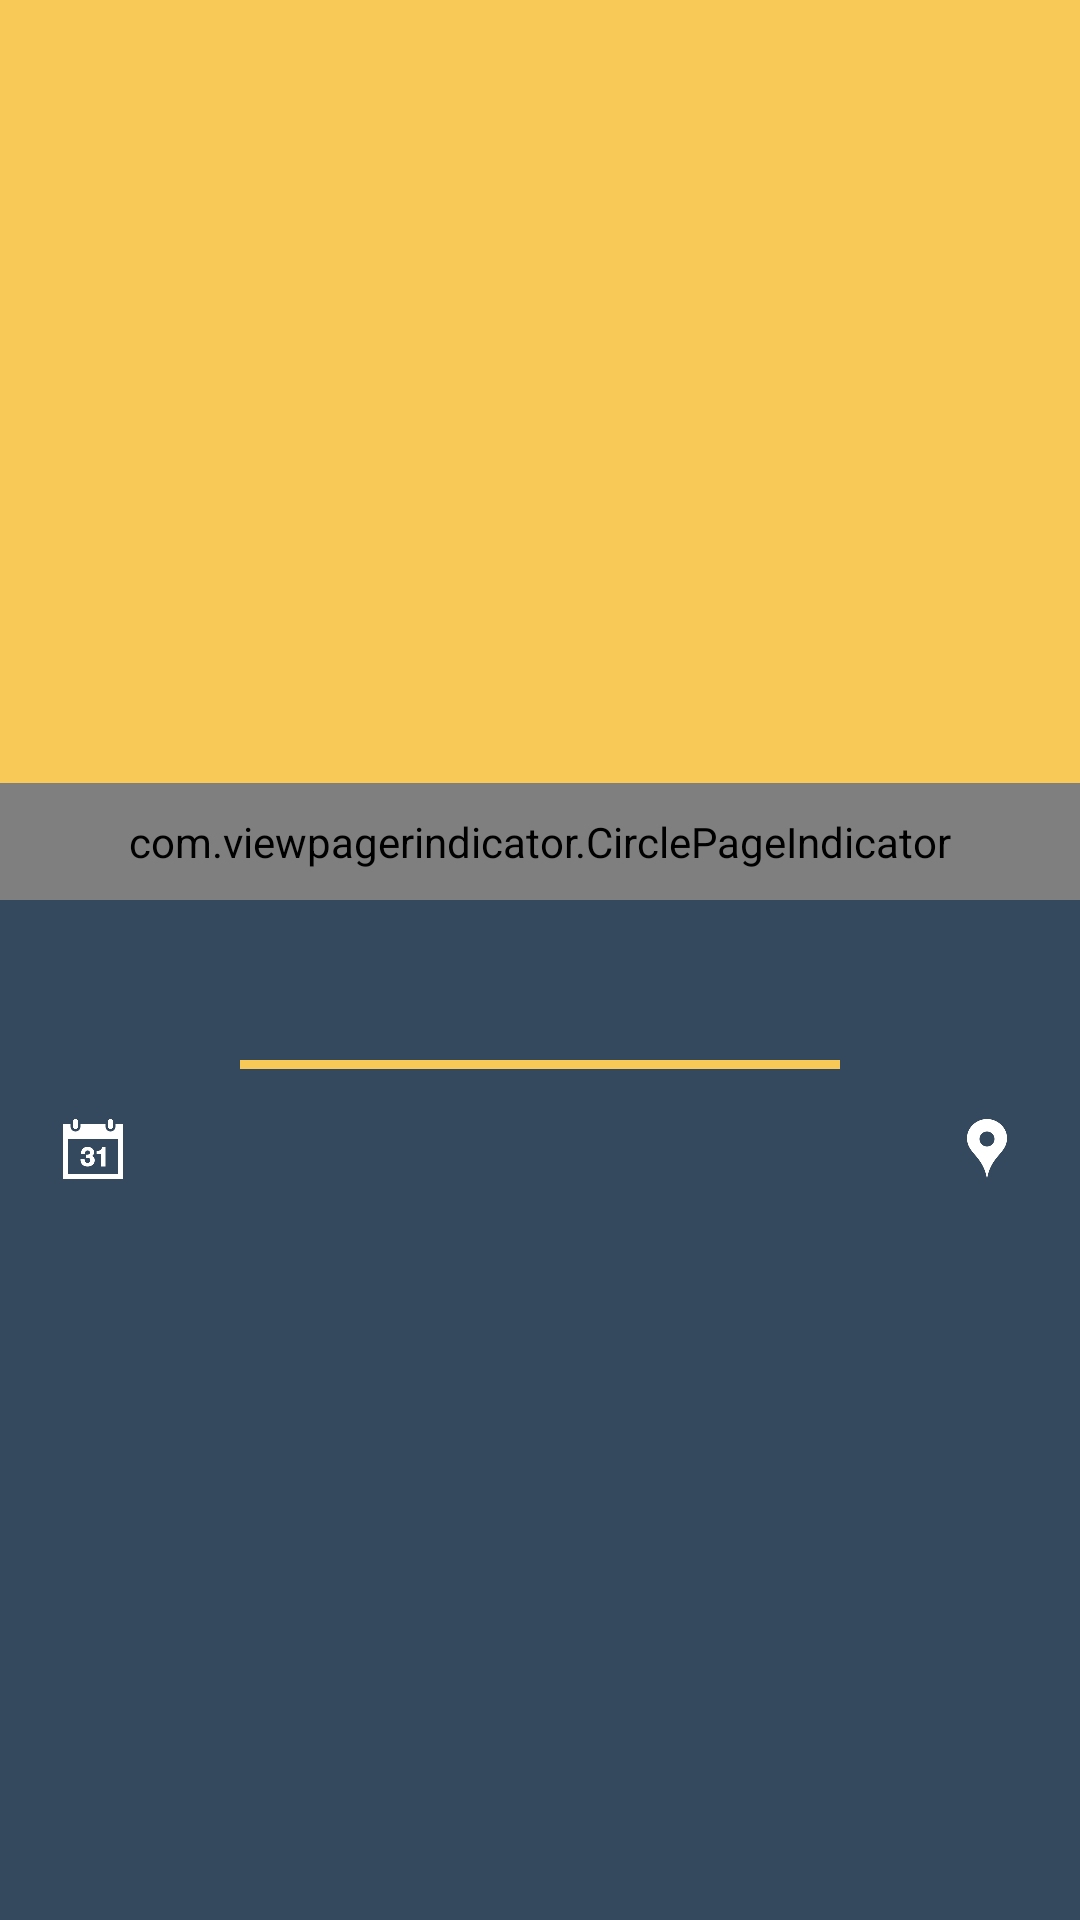

Named icons in this screenshot (1080×1920) and their centers, (x,y):
calendar: (93,1149)
marker: (987,1148)
